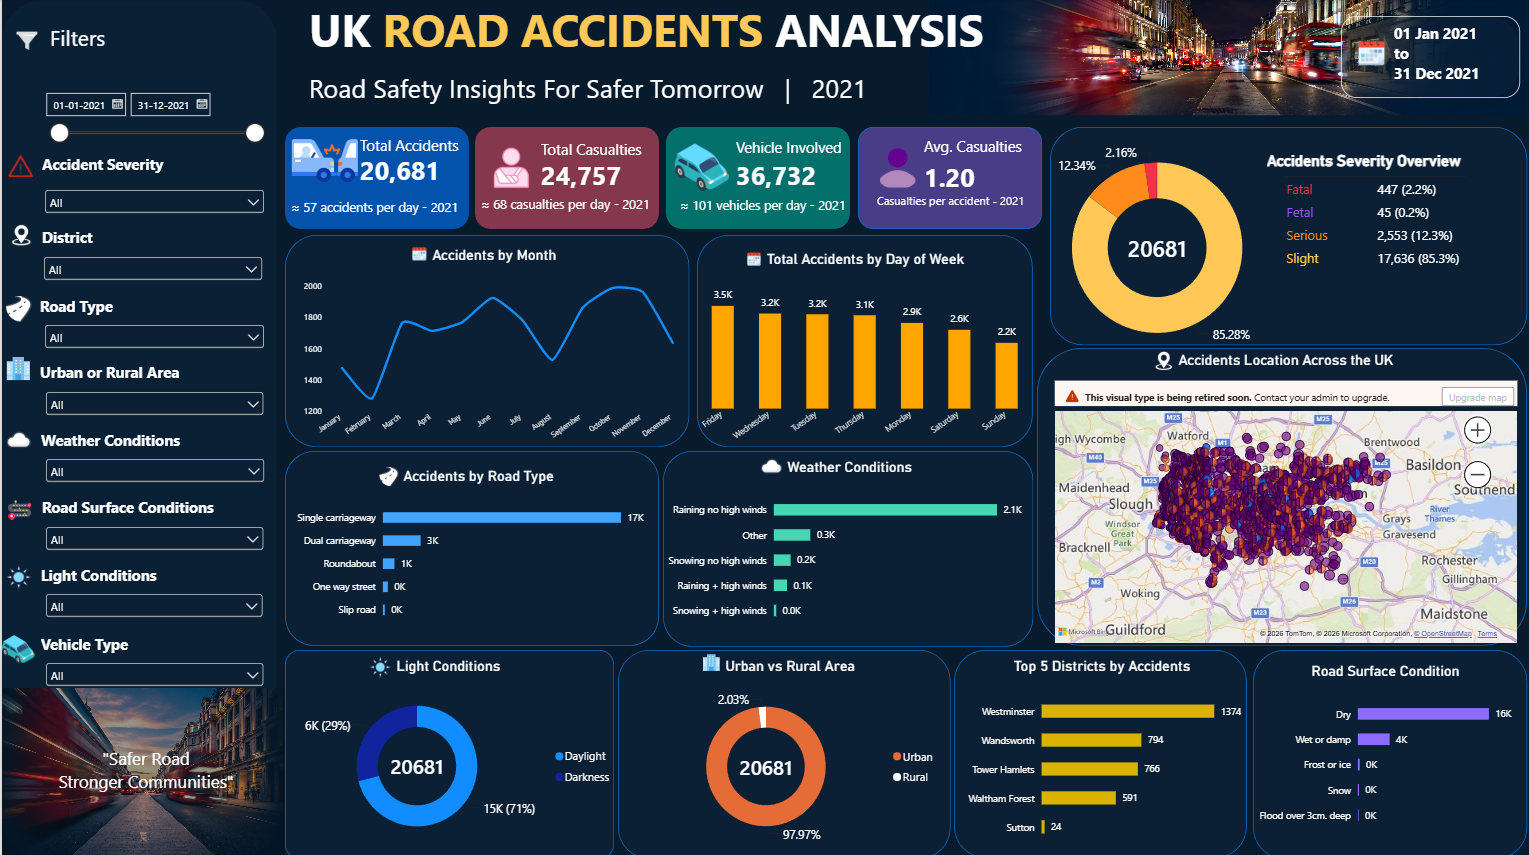

Layout of this report page (visuals, bound fields, positions):
{"tool":"powerbi","page":{"name":"Page 1","canvas":[1920,1080],"ordinal":0},"visuals":[{"type":"shape","box":[355.4,0,1564.7,145.7],"z":0},{"type":"shape","box":[0,0,1920,1079.6],"z":1000},{"type":"shape","box":[0,1.3,345.4,1079],"z":2000},{"type":"image","box":[1164.1,0,755.4,146.2],"z":3000},{"type":"textbox","box":[386.2,89.2,764.6,50.8],"z":4000},{"type":"textbox","box":[386.2,0,876.9,89.2],"z":5000},{"type":"shape","box":[1681,21.5,224.5,103],"z":6000},{"type":"image","box":[1700.4,45.2,38.9,44],"z":7000},{"type":"textbox","box":[1748.1,30.1,136.9,84.1],"z":8000},{"type":"shape","box":[355.3,160.5,231.1,128.1],"z":9000},{"type":"shape","box":[593.4,160.5,231.1,128.1],"z":10000},{"type":"shape","box":[834.2,160.5,231.1,128.1],"z":11000},{"type":"shape","box":[1075,160.5,231.1,128.1],"z":12000},{"type":"shape","box":[1316,160.5,599.5,274],"z":13000},{"type":"donutChart","fields":{"Category":["UK_Road_Accidents.Accident_Severity"],"Y":["UK_Road_Accidents.Total Accidents"]},"box":[1138.2,160.3,641.7,305.2],"z":14000},{"type":"tableEx","fields":{"Values":["UK_Road_Accidents.Accident_Severity","UK_Road_Accidents.Severity Summary"]},"box":[1591.1,175.8,312.7,285.1],"z":15000},{"type":"textbox","box":[1588.6,192.1,300.1,38.9],"z":16000},{"type":"shape","box":[355.1,296,508,266.5],"z":17000},{"type":"shape","box":[355.4,567.6,469.7,244.9],"z":18000},{"type":"shape","box":[873.3,296,421.6,266.5],"z":19000},{"type":"shape","box":[829.6,567.1,465.1,246.1],"z":20000},{"type":"shape","box":[1300,438,615.5,374],"z":21000},{"type":"shape","box":[1571,818,344.5,262.5],"z":22000},{"type":"shape","box":[355.3,817.8,413.2,262.5],"z":23000},{"type":"shape","box":[773,817.8,417.8,262.5],"z":24000},{"type":"shape","box":[1195.4,817.8,367.8,261.2],"z":25000},{"type":"lineChart","title":"Accidents by Month","fields":{"Category":["UK_Road_Accidents.Accident Date.Variation.Date Hierarchy.Month"],"Y":["UK_Road_Accidents.Total Accidents"]},"box":[362.9,296.4,510.5,276.3],"z":26000},{"type":"columnChart","title":"Total Accidents by Day of Week","fields":{"Category":["UK_Road_Accidents.Day_of_Week"],"Y":["UK_Road_Accidents.Total Accidents"]},"box":[851.3,301.5,465.8,273],"z":27000},{"type":"image","box":[513.8,300,20.7,38.3],"z":28000},{"type":"image","box":[934.8,313,20.4,27.2],"z":29000},{"type":"map","title":"Accidents Location Across the UK","fields":{"Series":["UK_Road_Accidents.Accident_Severity"],"Size":["UK_Road_Accidents.Total Accidents"],"X":["UK_Road_Accidents.Longitude"],"Y":["UK_Road_Accidents.Latitude"]},"box":[1306.2,428.8,612.5,388.8],"z":30000},{"type":"image","box":[1443.8,437.5,30,35],"z":31000},{"type":"barChart","title":"Accidents by Road Type","fields":{"Category":["UK_Road_Accidents.Road_Type"],"Y":["UK_Road_Accidents.Total Accidents"]},"box":[345,573.8,506.2,228.8],"z":32000},{"type":"image","box":[471.2,587.5,30,23.8],"z":33000},{"type":"clusteredBarChart","title":"Weather Conditions","fields":{"Category":["UK_Road_Accidents.Weather_Conditions"],"Y":["UK_Road_Accidents.Total Accidents"]},"box":[811.2,562.5,506.2,242.5],"z":34000},{"type":"image","box":[950,572.5,33.8,27.5],"z":35000},{"type":"donutChart","title":"Light Conditions ","fields":{"Category":["UK_Road_Accidents.Light_Conditions"],"Y":["UK_Road_Accidents.Total Accidents"]},"box":[333.3,812.8,455.6,266.7],"z":36000},{"type":"image","box":[450,825.3,51.1,27.8],"z":37000},{"type":"donutChart","title":"Urban vs Rural Area","fields":{"Category":["UK_Road_Accidents.Urban_or_Rural_Area"],"Y":["UK_Road_Accidents.Total Accidents"]},"box":[785,812.5,410,267.5],"z":38000},{"type":"image","box":[879.9,818.3,21.1,29.7],"z":39000},{"type":"clusteredBarChart","title":"Top 5 Districts by Accidents","fields":{"Category":["UK_Road_Accidents.District"],"Y":["UK_Road_Accidents.Total Accidents"]},"box":[1190.5,812.5,381.8,267.5],"z":40000},{"type":"clusteredBarChart","title":"Road Surface Condition","fields":{"Category":["UK_Road_Accidents.Road_Surface_Conditions"],"Y":["UK_Road_Accidents.Total Accidents"]},"box":[1554.7,818.8,365.4,243.6],"z":41000},{"type":"textbox","box":[450,170.8,200,43.3],"z":42000},{"type":"textbox","box":[450,192.5,121.7,53.3],"z":43000},{"type":"textbox","box":[363.3,249.4,269.2,40],"z":44000},{"type":"image","box":[363.5,162.4,84.7,82.4],"z":45000},{"type":"textbox","box":[677.1,175.9,147.6,35.9],"z":46000},{"type":"textbox","box":[677.1,198.8,113.5,51.2],"z":47000},{"type":"textbox","box":[601.3,245.6,233.5,40],"z":48000},{"type":"image","box":[601.8,185.9,75.3,51.8],"z":49000},{"type":"textbox","box":[921.5,173.4,163.3,60.8],"z":50000},{"type":"textbox","box":[921.5,198.7,111.4,60.8],"z":51000},{"type":"image","box":[824.1,177.2,110.1,68.4],"z":52000},{"type":"textbox","box":[851.9,246.8,219,39.2],"z":53000},{"type":"textbox","box":[1157.9,172.4,136.8,40.8],"z":54000},{"type":"textbox","box":[1157.9,201.3,76.3,54.6],"z":55000},{"type":"textbox","box":[1098.7,244.1,231.6,50],"z":56000},{"type":"image","box":[1090.8,184.2,67.1,55.3],"z":57000},{"type":"slicer","fields":{"Values":["UK_Road_Accidents.Accident Date"]},"box":[47.7,113,285.1,79.1],"z":58000},{"type":"image","box":[13.8,26.4,35.2,50.2],"z":59000},{"type":"textbox","box":[60.3,30.1,91.7,45.2],"z":60000},{"type":"slicer","fields":{"Values":["UK_Road_Accidents.Accident_Severity"]},"box":[49,234.8,285.1,46.5],"z":61000},{"type":"slicer","fields":{"Values":["UK_Road_Accidents.District"]},"box":[47.7,319,283.8,54],"z":62000},{"type":"slicer","fields":{"Values":["UK_Road_Accidents.Road_Type"]},"box":[49,404.4,285.1,46.5],"z":63000},{"type":"image","box":[0,194.7,47.9,31.1],"z":64000},{"type":"textbox","box":[50.2,194.7,256.2,61.5],"z":65000},{"type":"slicer","fields":{"Values":["UK_Road_Accidents.Road_Type"]},"box":[50.2,488.5,283.3,42.7],"z":66000},{"type":"image","box":[7.5,274.2,34.2,45.8],"z":67000},{"type":"textbox","box":[50.2,286.3,90.4,45.2],"z":68000},{"type":"textbox","box":[47.4,372.4,136.8,40.8],"z":69000},{"type":"image","box":[0,372.4,42.1,31.6],"z":70000},{"type":"textbox","box":[47.4,455.3,231.6,46.1],"z":71000},{"type":"image","box":[5.3,450,31.6,28.9],"z":72000},{"type":"slicer","fields":{"Values":["UK_Road_Accidents.Weather_Conditions"]},"box":[50,572.4,284.2,39.5],"z":73000},{"type":"textbox","box":[48.7,540.8,192.1,40.8],"z":74000},{"type":"image","box":[5.3,535.5,31.6,36.8],"z":75000},{"type":"slicer","fields":{"Values":["UK_Road_Accidents.Road_Surface_Conditions"]},"box":[50,657.9,282.9,52.6],"z":76000},{"type":"textbox","box":[50,625,231.6,40.8],"z":77000},{"type":"image","box":[7.9,619.7,28.9,46.1],"z":77001},{"type":"slicer","fields":{"Values":["UK_Road_Accidents.Light_Conditions"]},"box":[50,742.1,281.6,44.7],"z":77002},{"type":"textbox","box":[48.7,710.5,160.5,40.8],"z":77003},{"type":"image","box":[5.3,709.2,31.6,32.9],"z":77004},{"type":"slicer","fields":{"Values":["UK_Road_Accidents.Vehicle_Type"]},"box":[50,828.9,282.9,47.4],"z":77005},{"type":"textbox","box":[48.7,797.4,156.6,40.8],"z":77006},{"type":"image","box":[0,796.1,40.8,40.8],"z":77007},{"type":"image","box":[0,865.8,355.3,214.5],"z":77008},{"type":"textbox","box":[34.2,939.5,300,68.4],"z":77009}]}

Visuals, with their boxes in screenshot pixels (x1, y1, x2, y2), scaled from the page's 1920x1080 canvas onto the 1529x855 screenshot:
shape: BBox(283, 0, 1528, 115)
shape: BBox(0, 0, 1528, 854)
shape: BBox(0, 1, 275, 854)
image: BBox(927, 0, 1528, 116)
textbox: BBox(308, 71, 916, 111)
textbox: BBox(308, 0, 1006, 71)
shape: BBox(1339, 17, 1517, 99)
image: BBox(1354, 36, 1385, 71)
textbox: BBox(1392, 24, 1501, 90)
shape: BBox(283, 127, 467, 228)
shape: BBox(473, 127, 657, 228)
shape: BBox(664, 127, 848, 228)
shape: BBox(856, 127, 1040, 228)
shape: BBox(1048, 127, 1525, 344)
donutChart - UK_Road_Accidents.Accident_Severity x UK_Road_Accidents.Total Accidents: BBox(906, 127, 1417, 369)
tableEx - UK_Road_Accidents.Accident_Severity x UK_Road_Accidents.Severity Summary: BBox(1267, 139, 1516, 365)
textbox: BBox(1265, 152, 1504, 183)
shape: BBox(283, 234, 687, 445)
shape: BBox(283, 449, 657, 643)
shape: BBox(695, 234, 1031, 445)
shape: BBox(661, 449, 1031, 644)
shape: BBox(1035, 347, 1525, 643)
shape: BBox(1251, 648, 1525, 854)
shape: BBox(283, 647, 612, 854)
shape: BBox(616, 647, 948, 854)
shape: BBox(952, 647, 1245, 854)
"Accidents by Month" lineChart: BBox(289, 235, 696, 453)
"Total Accidents by Day of Week" columnChart: BBox(678, 239, 1049, 455)
image: BBox(409, 238, 426, 268)
image: BBox(744, 248, 761, 269)
"Accidents Location Across the UK" map: BBox(1040, 339, 1528, 647)
image: BBox(1150, 346, 1174, 374)
"Accidents by Road Type" barChart: BBox(275, 454, 678, 635)
image: BBox(375, 465, 399, 484)
"Weather Conditions" clusteredBarChart: BBox(646, 445, 1049, 637)
image: BBox(757, 453, 783, 475)
"Light Conditions " donutChart: BBox(265, 643, 628, 854)
image: BBox(358, 653, 399, 675)
"Urban vs Rural Area" donutChart: BBox(625, 643, 952, 854)
image: BBox(701, 648, 718, 671)
"Top 5 Districts by Accidents" clusteredBarChart: BBox(948, 643, 1252, 854)
"Road Surface Condition" clusteredBarChart: BBox(1238, 648, 1528, 841)
textbox: BBox(358, 135, 518, 169)
textbox: BBox(358, 152, 455, 195)
textbox: BBox(289, 197, 504, 229)
image: BBox(289, 129, 357, 194)
textbox: BBox(539, 139, 657, 168)
textbox: BBox(539, 157, 630, 198)
textbox: BBox(479, 194, 665, 226)
image: BBox(479, 147, 539, 188)
textbox: BBox(734, 137, 864, 185)
textbox: BBox(734, 157, 823, 205)
image: BBox(656, 140, 744, 194)
textbox: BBox(678, 195, 853, 226)
textbox: BBox(922, 136, 1031, 169)
textbox: BBox(922, 159, 983, 203)
textbox: BBox(875, 193, 1059, 233)
image: BBox(869, 146, 922, 190)
slicer - UK_Road_Accidents.Accident Date: BBox(38, 89, 265, 152)
image: BBox(11, 21, 39, 61)
textbox: BBox(48, 24, 121, 60)
slicer - UK_Road_Accidents.Accident_Severity: BBox(39, 186, 266, 223)
slicer - UK_Road_Accidents.District: BBox(38, 253, 264, 295)
slicer - UK_Road_Accidents.Road_Type: BBox(39, 320, 266, 357)
image: BBox(0, 154, 38, 179)
textbox: BBox(40, 154, 244, 203)
slicer - UK_Road_Accidents.Road_Type: BBox(40, 387, 266, 421)
image: BBox(6, 217, 33, 253)
textbox: BBox(40, 227, 112, 262)
textbox: BBox(38, 295, 147, 327)
image: BBox(0, 295, 34, 320)
textbox: BBox(38, 360, 222, 397)
image: BBox(4, 356, 29, 379)
slicer - UK_Road_Accidents.Weather_Conditions: BBox(40, 453, 266, 484)
textbox: BBox(39, 428, 192, 460)
image: BBox(4, 424, 29, 453)
slicer - UK_Road_Accidents.Road_Surface_Conditions: BBox(40, 521, 265, 562)
textbox: BBox(40, 495, 224, 527)
image: BBox(6, 491, 29, 527)
slicer - UK_Road_Accidents.Light_Conditions: BBox(40, 587, 264, 623)
textbox: BBox(39, 562, 167, 595)
image: BBox(4, 561, 29, 587)
slicer - UK_Road_Accidents.Vehicle_Type: BBox(40, 656, 265, 694)
textbox: BBox(39, 631, 163, 664)
image: BBox(0, 630, 32, 663)
image: BBox(0, 685, 283, 854)
textbox: BBox(27, 744, 266, 798)
